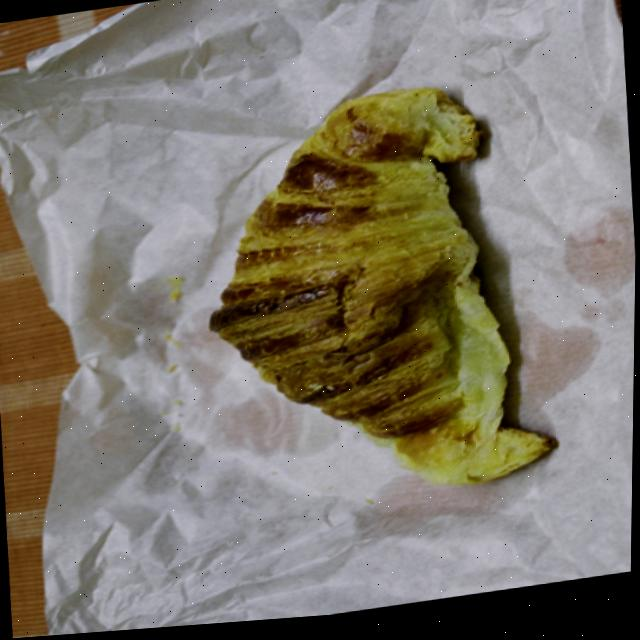面包点心: (167, 63, 579, 541)
